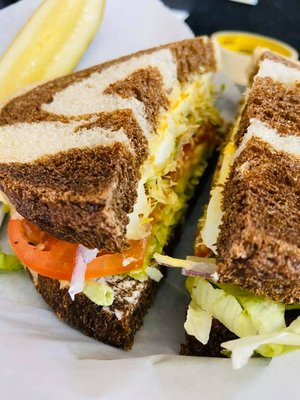pasta: (0, 0, 107, 112)
pizza: (212, 31, 297, 89)
soup: (0, 32, 245, 360), (178, 52, 300, 363)
sushi: (211, 31, 299, 88)
